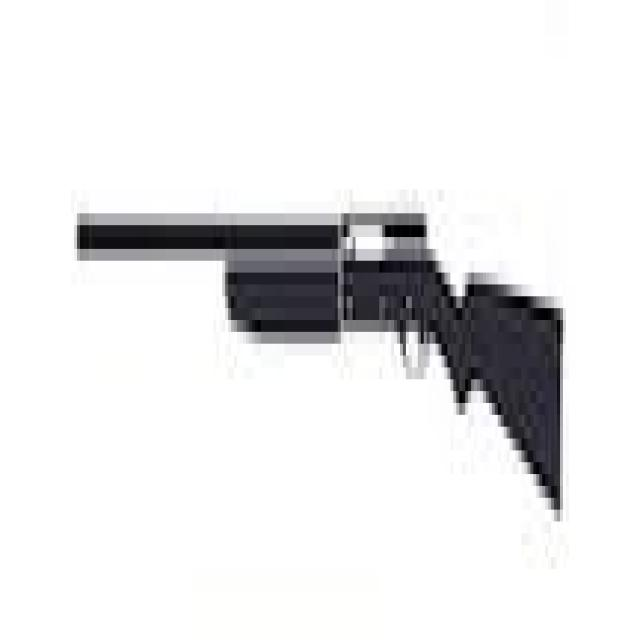rifle: (67, 182, 572, 547)
